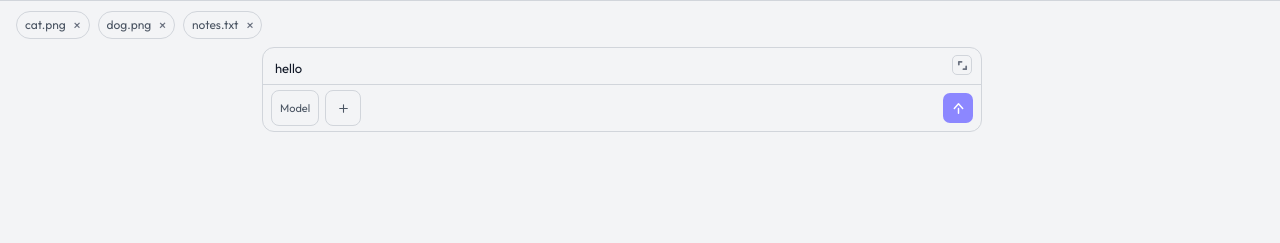
ChatComposerComponent › image chip preview › uses the server thumbnail for an uploaded attachment with no local file
Hover over the element with class "composer__attachment" showing "dog.png ×" at (136, 25), box top-left (98, 11), bottom-right (175, 39)
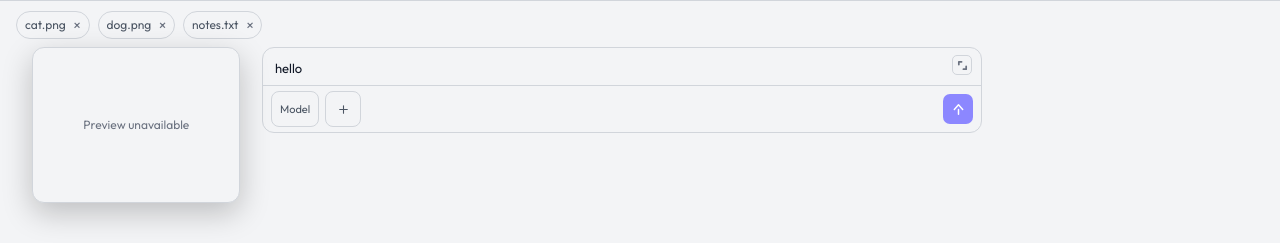
expect the tooltip "Preview unavailable" is shown: met, box top-left (32, 47), bottom-right (240, 203)
